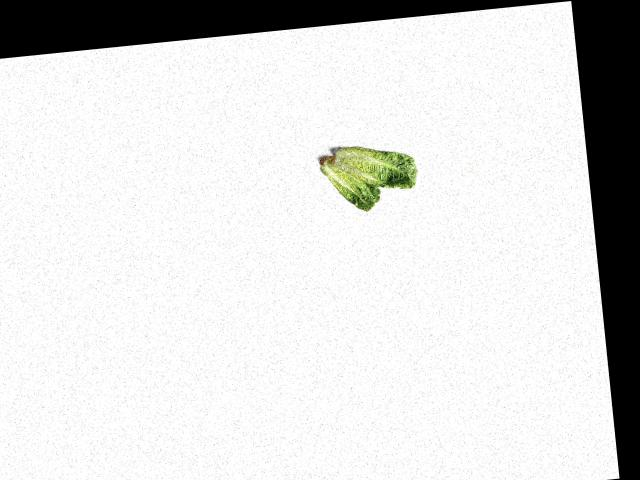lettuce: (314, 149, 382, 216)
